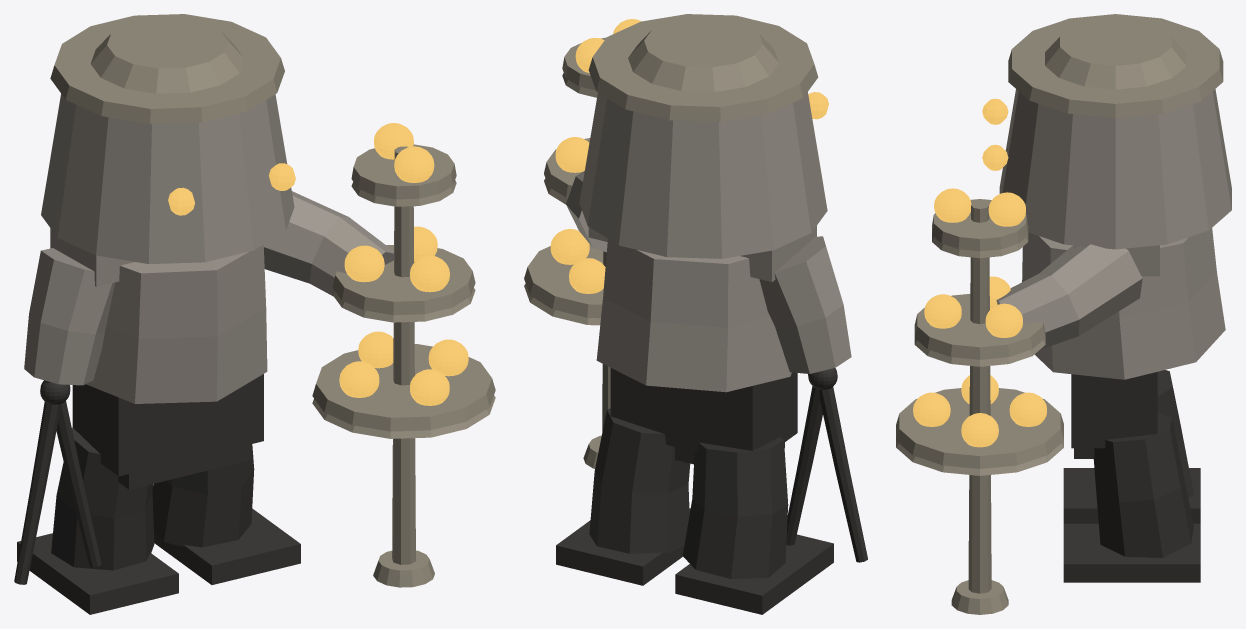
Rendered from comfitmaker.glb.
3 views of the same model, side by side, from view 1: azimuth 30°, elevation 25°; view 2: azimuth 150°, elevation 25°; view 3: azimuth 270°, elevation 25° (orthographic). The views are drawn at different scales.
Parts seen in each view (by area): view 1: comfitmaker_body, comfitmaker_bone, comfitmaker_dark, comfitmaker_glow; view 2: comfitmaker_body, comfitmaker_dark, comfitmaker_bone, comfitmaker_glow; view 3: comfitmaker_body, comfitmaker_bone, comfitmaker_dark, comfitmaker_glow.
Part boxes in pixels (x1,y1,x2,y2): comfitmaker_body: (24, 93, 393, 403); comfitmaker_bone: (50, 14, 495, 587); comfitmaker_dark: (14, 374, 300, 614); comfitmaker_glow: (168, 123, 468, 405); comfitmaker_body: (566, 92, 851, 392); comfitmaker_dark: (556, 368, 867, 614); comfitmaker_bone: (524, 14, 818, 468); comfitmaker_glow: (550, 19, 828, 293); comfitmaker_body: (996, 89, 1231, 379); comfitmaker_bone: (896, 14, 1223, 614); comfitmaker_dark: (1063, 370, 1200, 582); comfitmaker_glow: (913, 98, 1046, 447).
Size of the model in its own units: 1.83 by 2.28 by 1.41.
